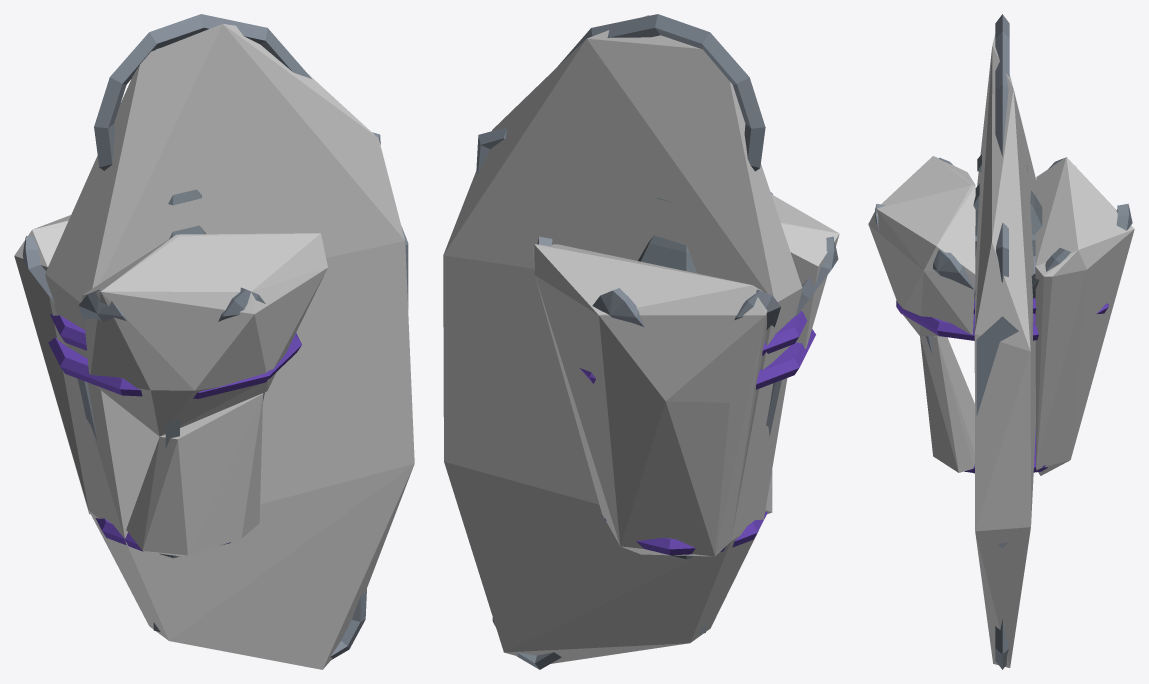
The model's file is SM_Prop_Lantern_01.fbx.
3 renders of one model, left to right at view 1: azimuth 30°, elevation 25°; view 2: azimuth 150°, elevation 25°; view 3: azimuth 270°, elevation 25°, orthographic. The views are drawn at different scales.
Visible parts, largest first — view 1: SM_Prop_Lantern_01_ConvexHulls, SM_Prop_Lantern_01; view 2: SM_Prop_Lantern_01_ConvexHulls, SM_Prop_Lantern_01; view 3: SM_Prop_Lantern_01_ConvexHulls, SM_Prop_Lantern_01.
Part boxes in pixels (x1,y1,x2,y2): SM_Prop_Lantern_01_ConvexHulls: [14, 24, 414, 669]; SM_Prop_Lantern_01: [22, 14, 408, 659]; SM_Prop_Lantern_01_ConvexHulls: [443, 15, 839, 663]; SM_Prop_Lantern_01: [476, 14, 838, 669]; SM_Prop_Lantern_01_ConvexHulls: [868, 34, 1134, 667]; SM_Prop_Lantern_01: [875, 14, 1132, 669].
Bounding box in the file's own units: 63.29 × 49.24 × 119.
Materials: 2 (1 with a texture image).
